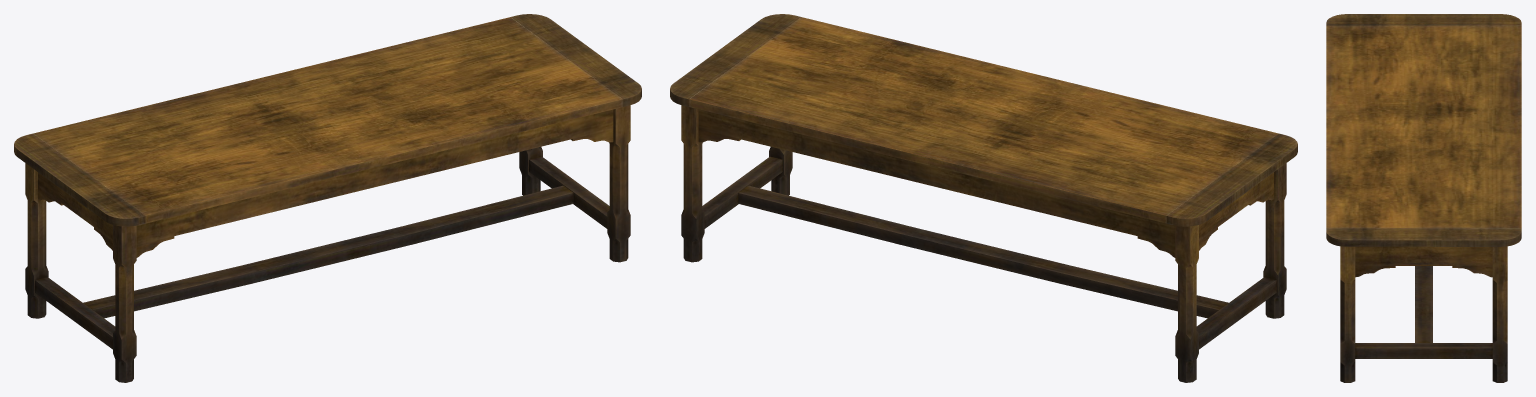
File: WoodenTable_01.glb
The picture shows the model from 3 angles, left to right: view 1: azimuth 30°, elevation 25°; view 2: azimuth 150°, elevation 25°; view 3: azimuth 270°, elevation 25°; orthographic projection. The views are drawn at different scales.
Parts seen in each view (by area): view 1: WoodenTable_01; view 2: WoodenTable_01; view 3: WoodenTable_01.
Boxes of the visible parts, x1,y1,x2,y2 form: WoodenTable_01: (14,14,641,382); WoodenTable_01: (670,14,1297,382); WoodenTable_01: (1326,14,1521,382).
Bounding box in the file's own units: 1.8 × 0.5488 × 0.6571.
1 material, 1 textured.
